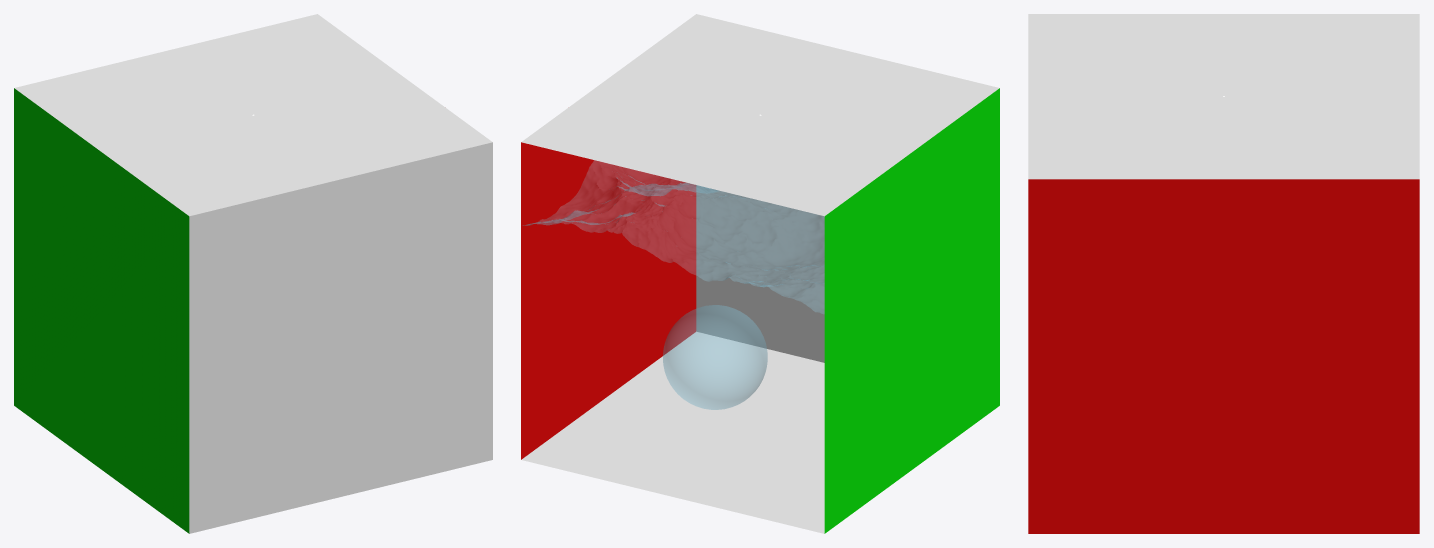
File: caustics_small.glb
3 views of the same model, side by side, from view 1: azimuth 30°, elevation 25°; view 2: azimuth 150°, elevation 25°; view 3: azimuth 270°, elevation 25° (orthographic). The views are drawn at different scales.
Parts seen in each view (by area): view 1: Back, Right, Top Small; view 2: Right, Top Small, Left, Bottom, Water Sheet, Back, Icosphere; view 3: Left, Top Small.
Boxes of the visible parts, bbox=[...] form: Back: bbox=[189, 142, 492, 533]; Right: bbox=[14, 88, 189, 533]; Top Small: bbox=[14, 14, 492, 216]; Right: bbox=[824, 88, 999, 533]; Top Small: bbox=[521, 14, 999, 216]; Left: bbox=[521, 142, 696, 459]; Bottom: bbox=[521, 331, 824, 533]; Water Sheet: bbox=[522, 160, 824, 313]; Back: bbox=[696, 185, 824, 362]; Icosphere: bbox=[663, 305, 767, 409]; Left: bbox=[1028, 179, 1419, 533]; Top Small: bbox=[1028, 14, 1419, 179].
Bounding box in the file's own units: 2 × 2 × 2.
